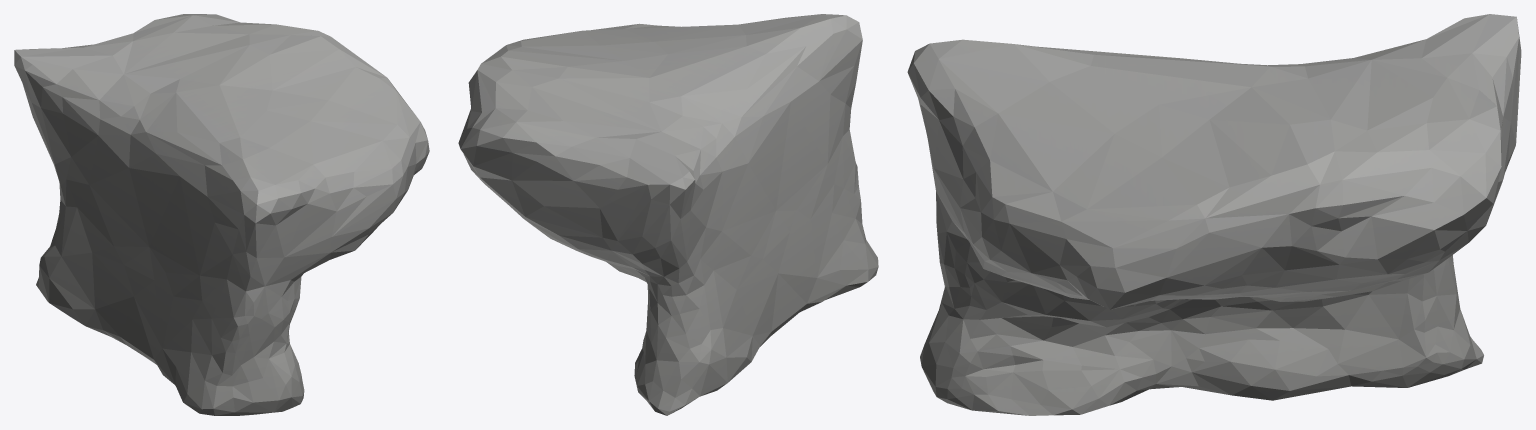
Rendered from Cavern_Wall_Med-01.fbx.
3 views of the same model, side by side, from view 1: azimuth 30°, elevation 25°; view 2: azimuth 150°, elevation 25°; view 3: azimuth 270°, elevation 25° (orthographic). The views are drawn at different scales.
Parts seen in each view (by area): view 1: Cavern_Wall_Med-01; view 2: Cavern_Wall_Med-01; view 3: Cavern_Wall_Med-01.
Boxes of the visible parts, x1=… form: Cavern_Wall_Med-01: x1=14, y1=14, x2=429, y2=415; Cavern_Wall_Med-01: x1=458, y1=14, x2=878, y2=415; Cavern_Wall_Med-01: x1=907, y1=14, x2=1521, y2=415.
Bounding box in the file's own units: 1736 × 1417 × 2276.
Materials: 1 (1 with a texture image).
